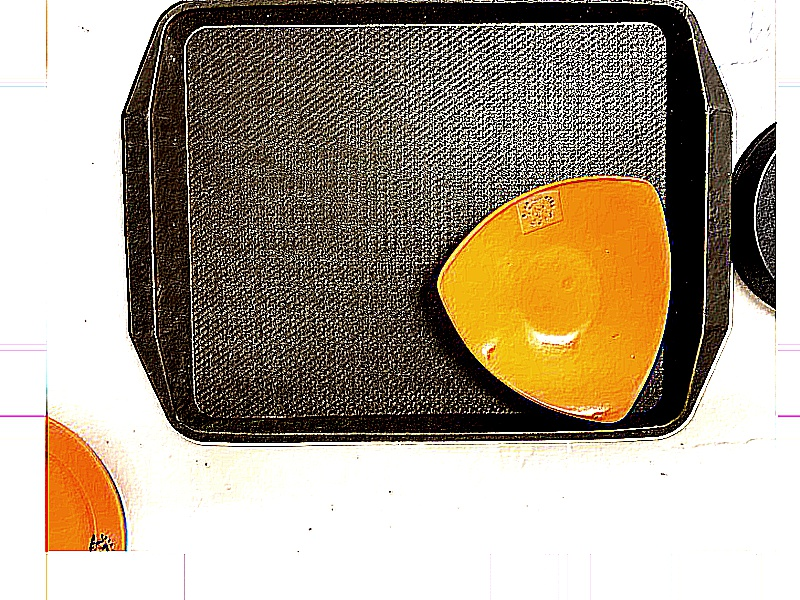dish11: (429, 172, 675, 430)
